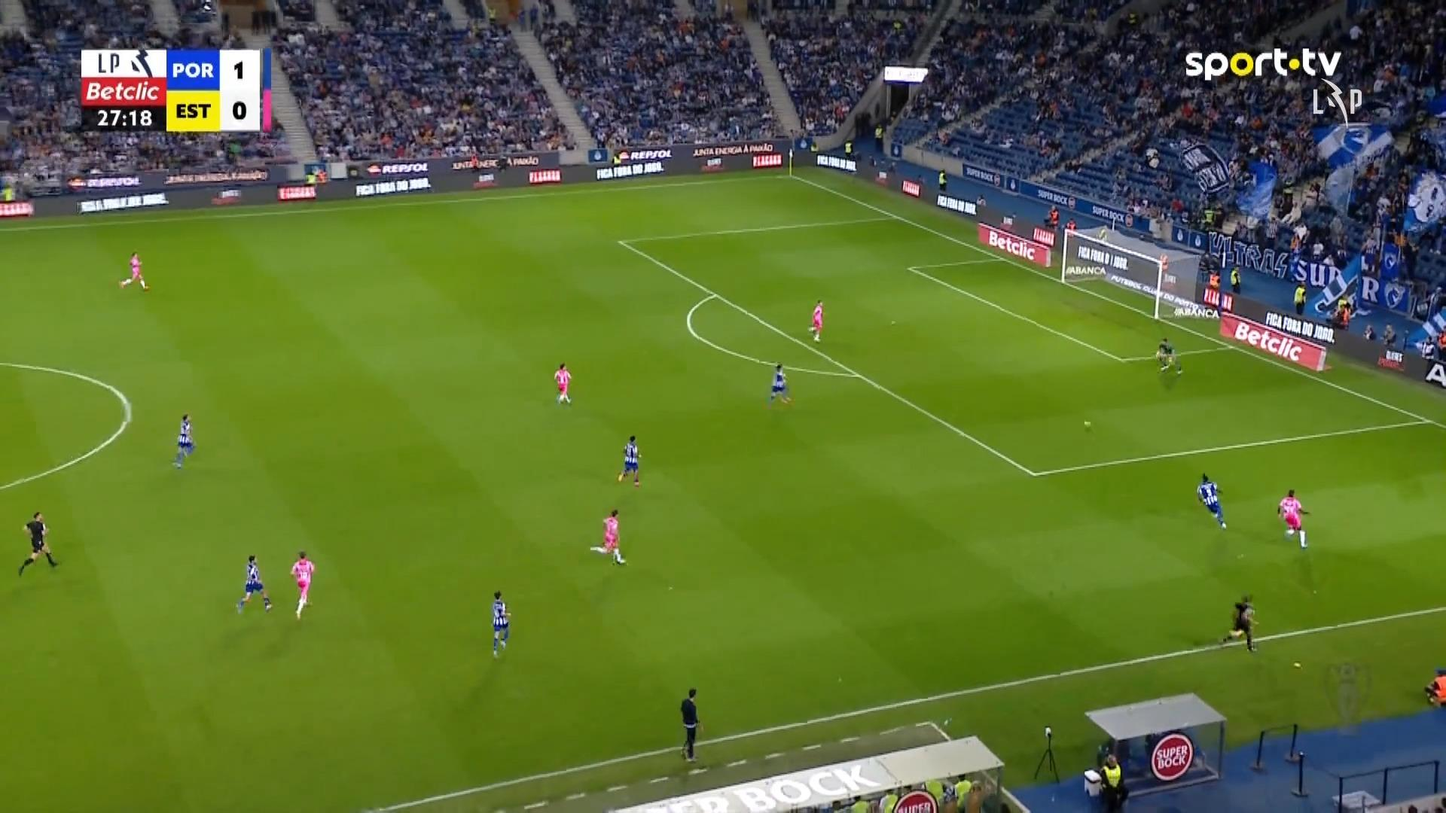ball: (1083, 420, 1091, 428)
goalkeeper: (1155, 336, 1182, 375)
player: (236, 554, 273, 614), (590, 508, 626, 565), (1277, 489, 1310, 549), (1196, 472, 1227, 529), (290, 550, 315, 620), (490, 589, 510, 658), (172, 413, 195, 469), (117, 251, 149, 291), (617, 434, 641, 486), (767, 362, 792, 405), (553, 362, 572, 404), (809, 299, 824, 342), (1292, 280, 1307, 315)
referee: (17, 510, 58, 576), (1221, 593, 1258, 652), (679, 687, 701, 762)
